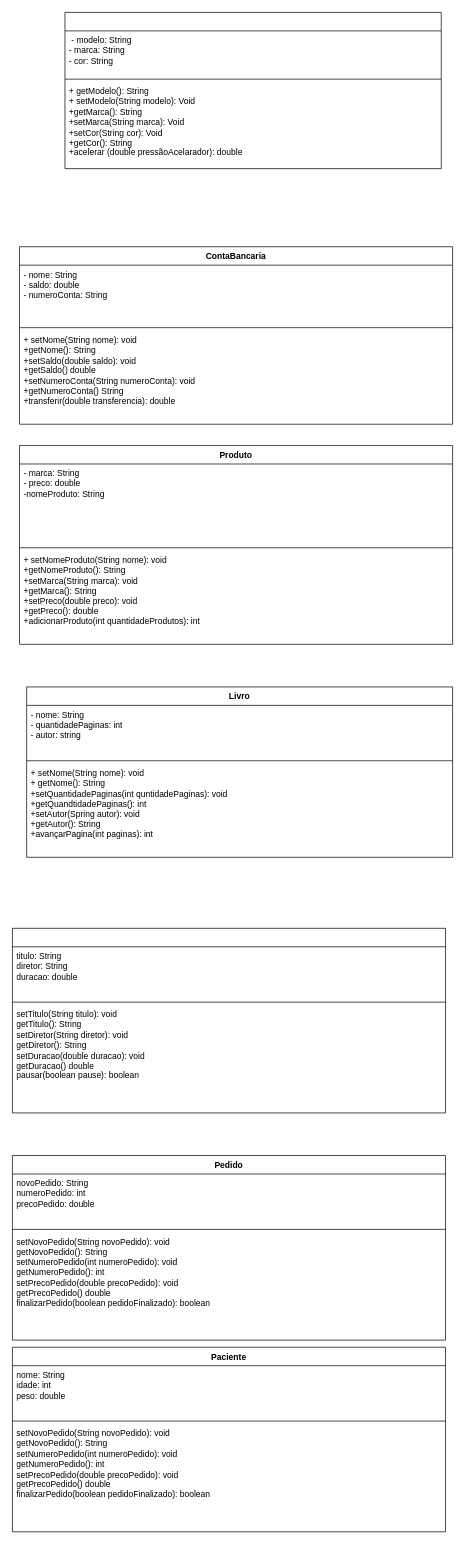
Image size: 465x1546. Some labels were removed from this diagram. Each missing label, with the box of its shape:
Carro: (64, 12, 441, 169)
Filme: (12, 928, 446, 1113)
